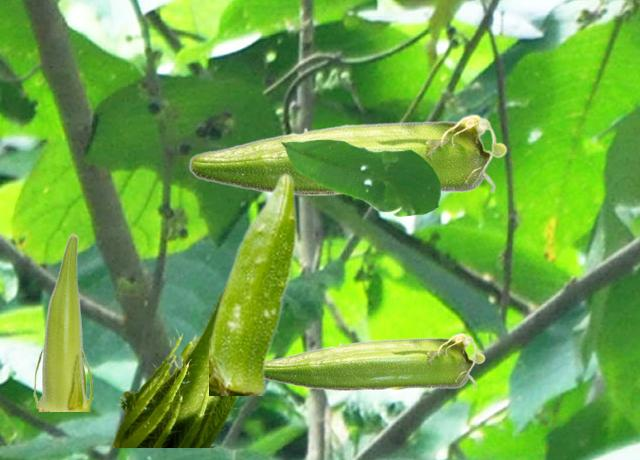okra: (188, 113, 506, 195), (110, 291, 240, 446), (209, 171, 297, 394), (266, 332, 484, 390), (32, 233, 91, 410)
